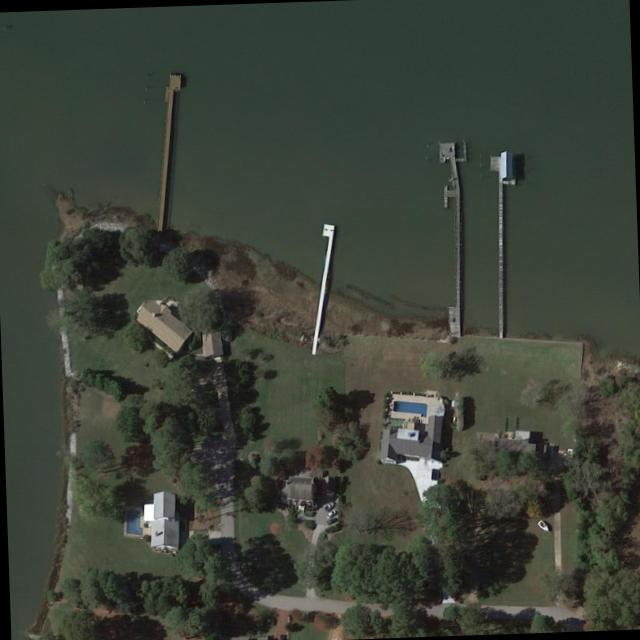ship: (535, 517, 552, 532)
small-vehicle: (322, 499, 336, 511), (324, 507, 337, 518), (326, 515, 339, 524)
